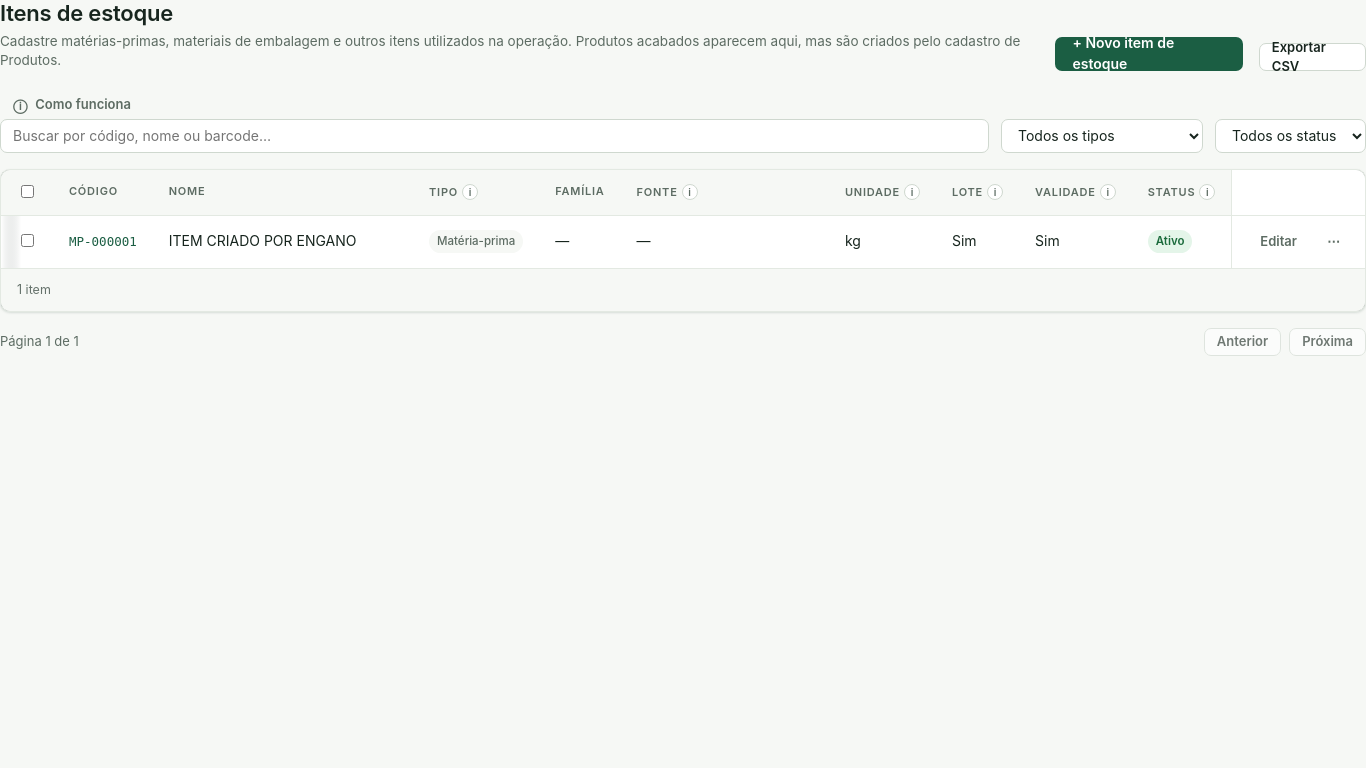
it: Administrador › bloqueado (estoque): mostra o porquê, sem o botão de excluir, e a saída abre o Inativar de sempre
Expected: the text "MP-000001" is shown, [53,215,153,268]
Click the button named "Mais ações de MP-000001" at (1334, 242), box [1318,228,1349,256]
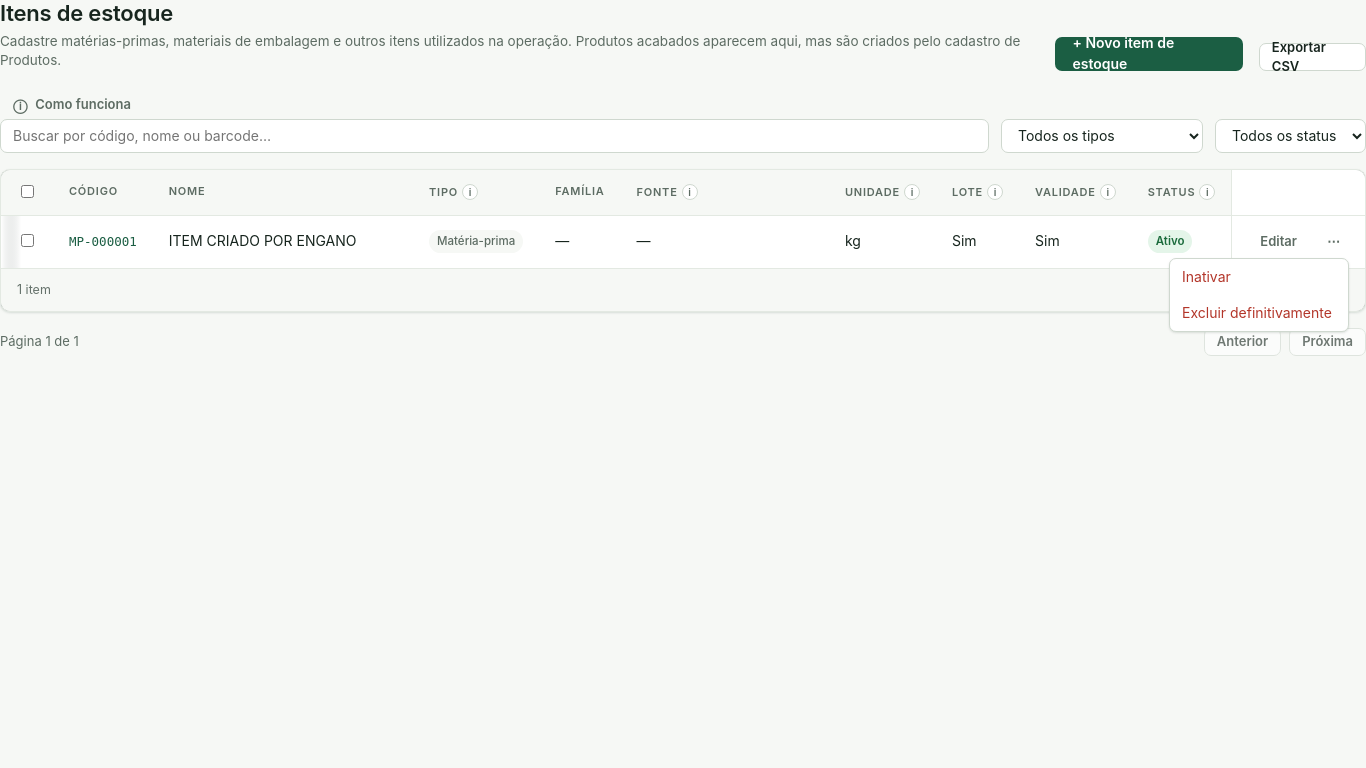
Click the menu item "Excluir definitivamente" at (1259, 313), box [1170,295,1348,331]
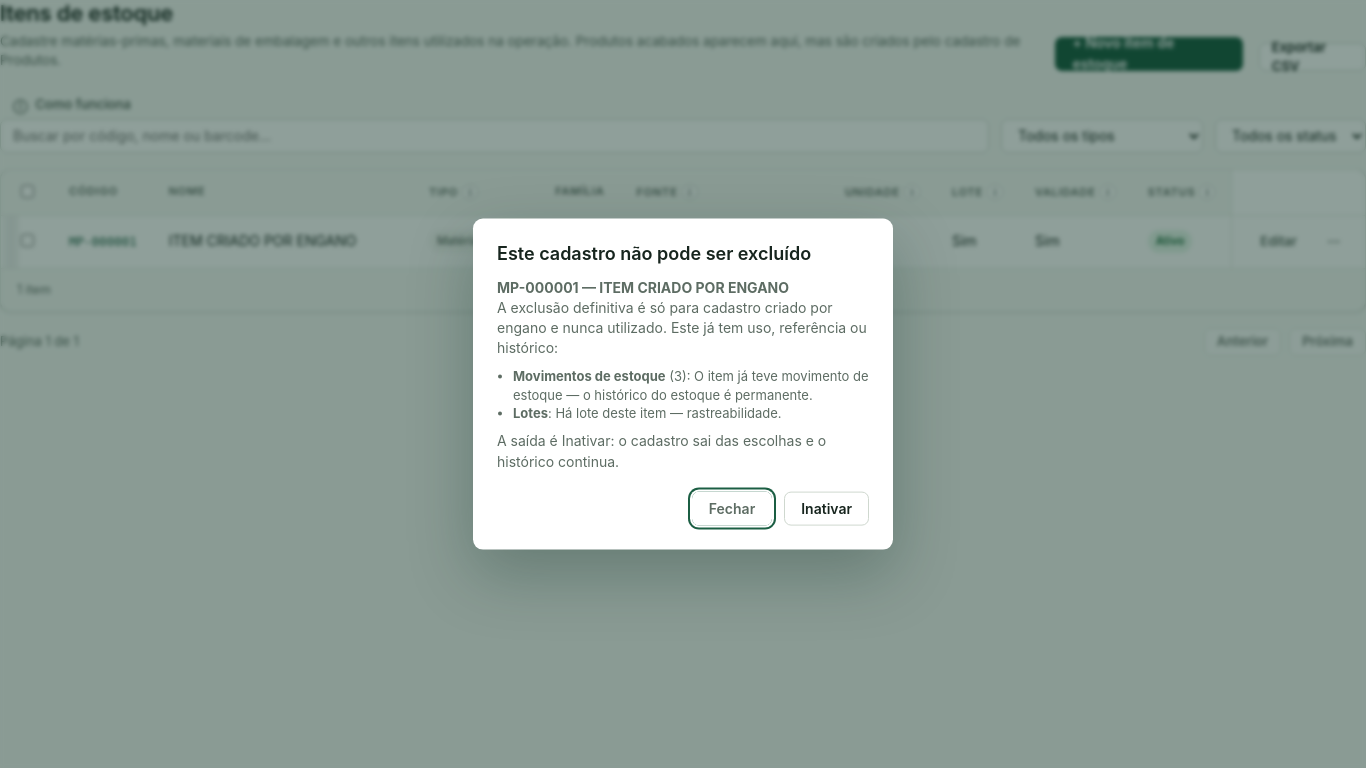
Now the text "Movimentos de estoque" is shown, box [513,367,666,383]
Now the text "Lotes" is shown, box [513,405,548,421]
Now the menu item "Excluir definitivamente" is gone
Click the button "Inativar" at (827, 508), box [784,491,869,525]
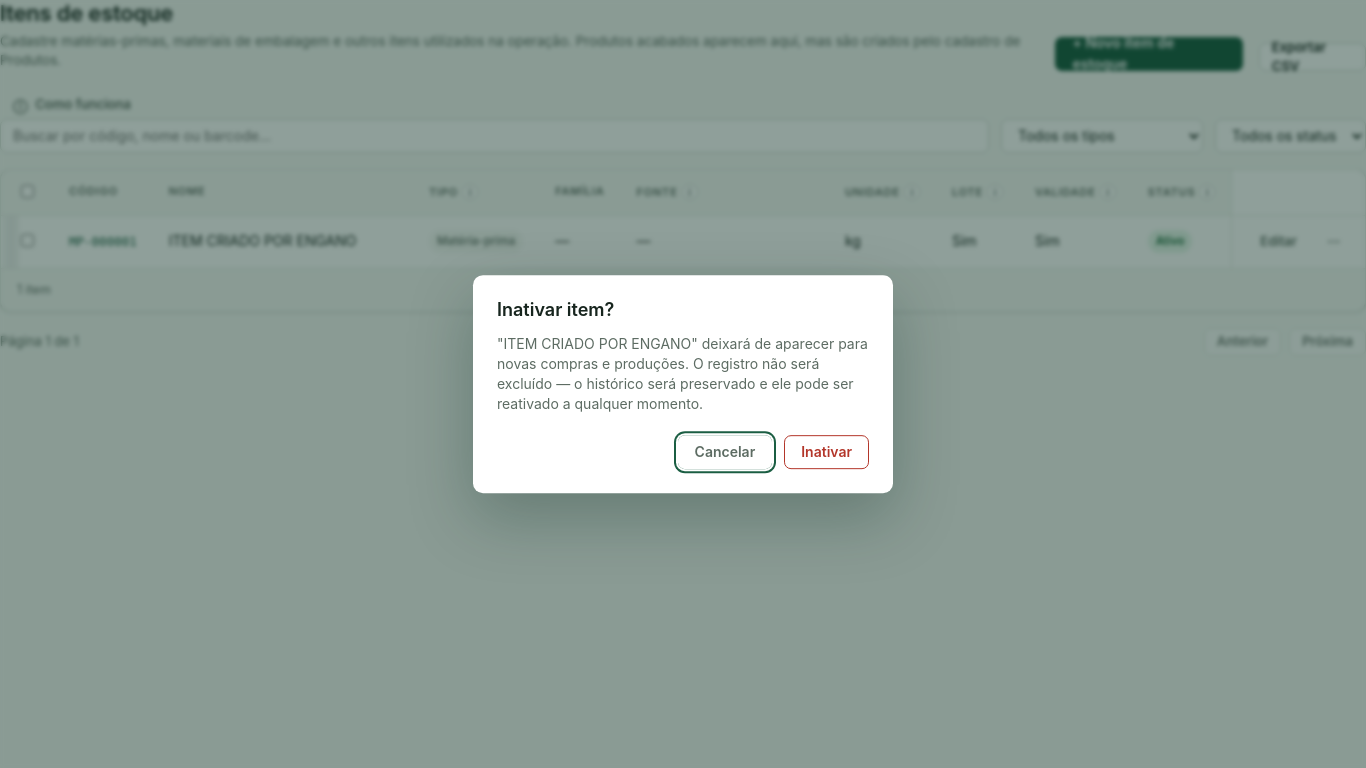
Now the heading "Inativar item?" is shown, box [497,299,614,320]
